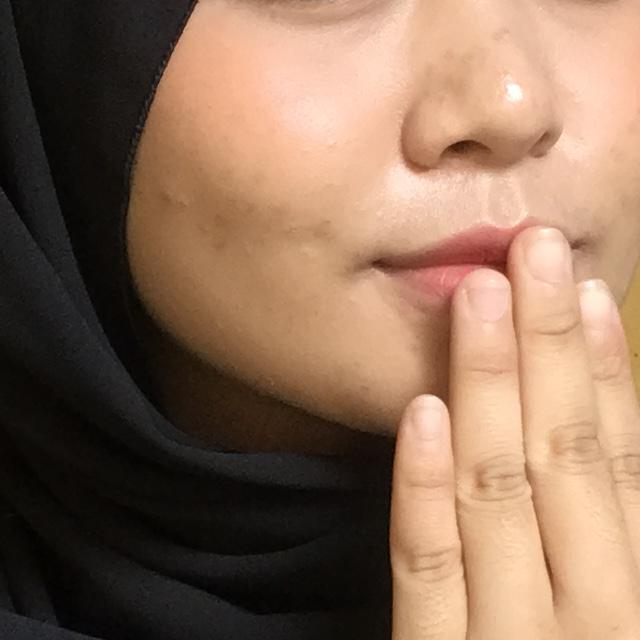ganteng: (285, 201, 640, 640)
